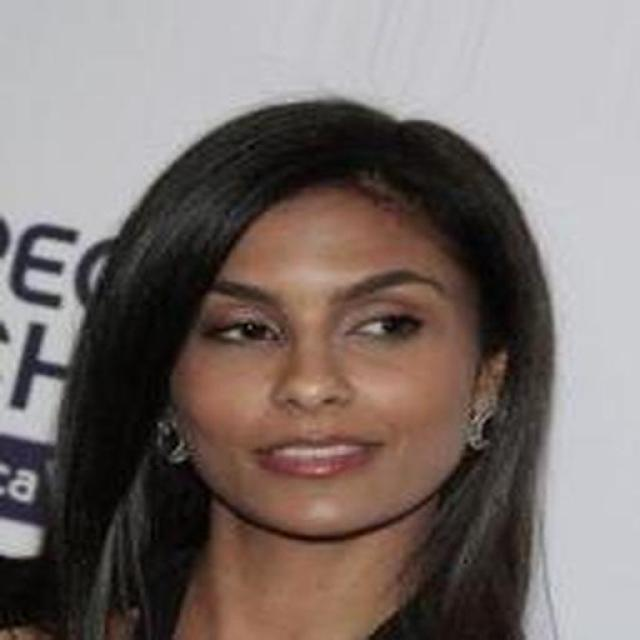bareface: (150, 172, 516, 517)
